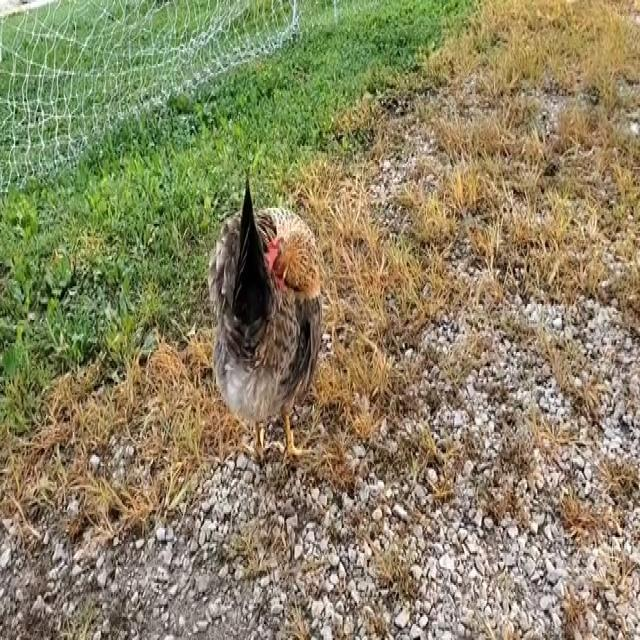self preening: (206, 157, 329, 471)
